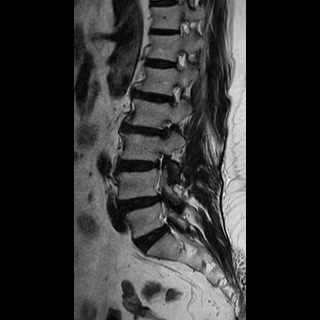LFS0: (164, 78, 185, 111)
LFS2: (154, 115, 177, 143)
